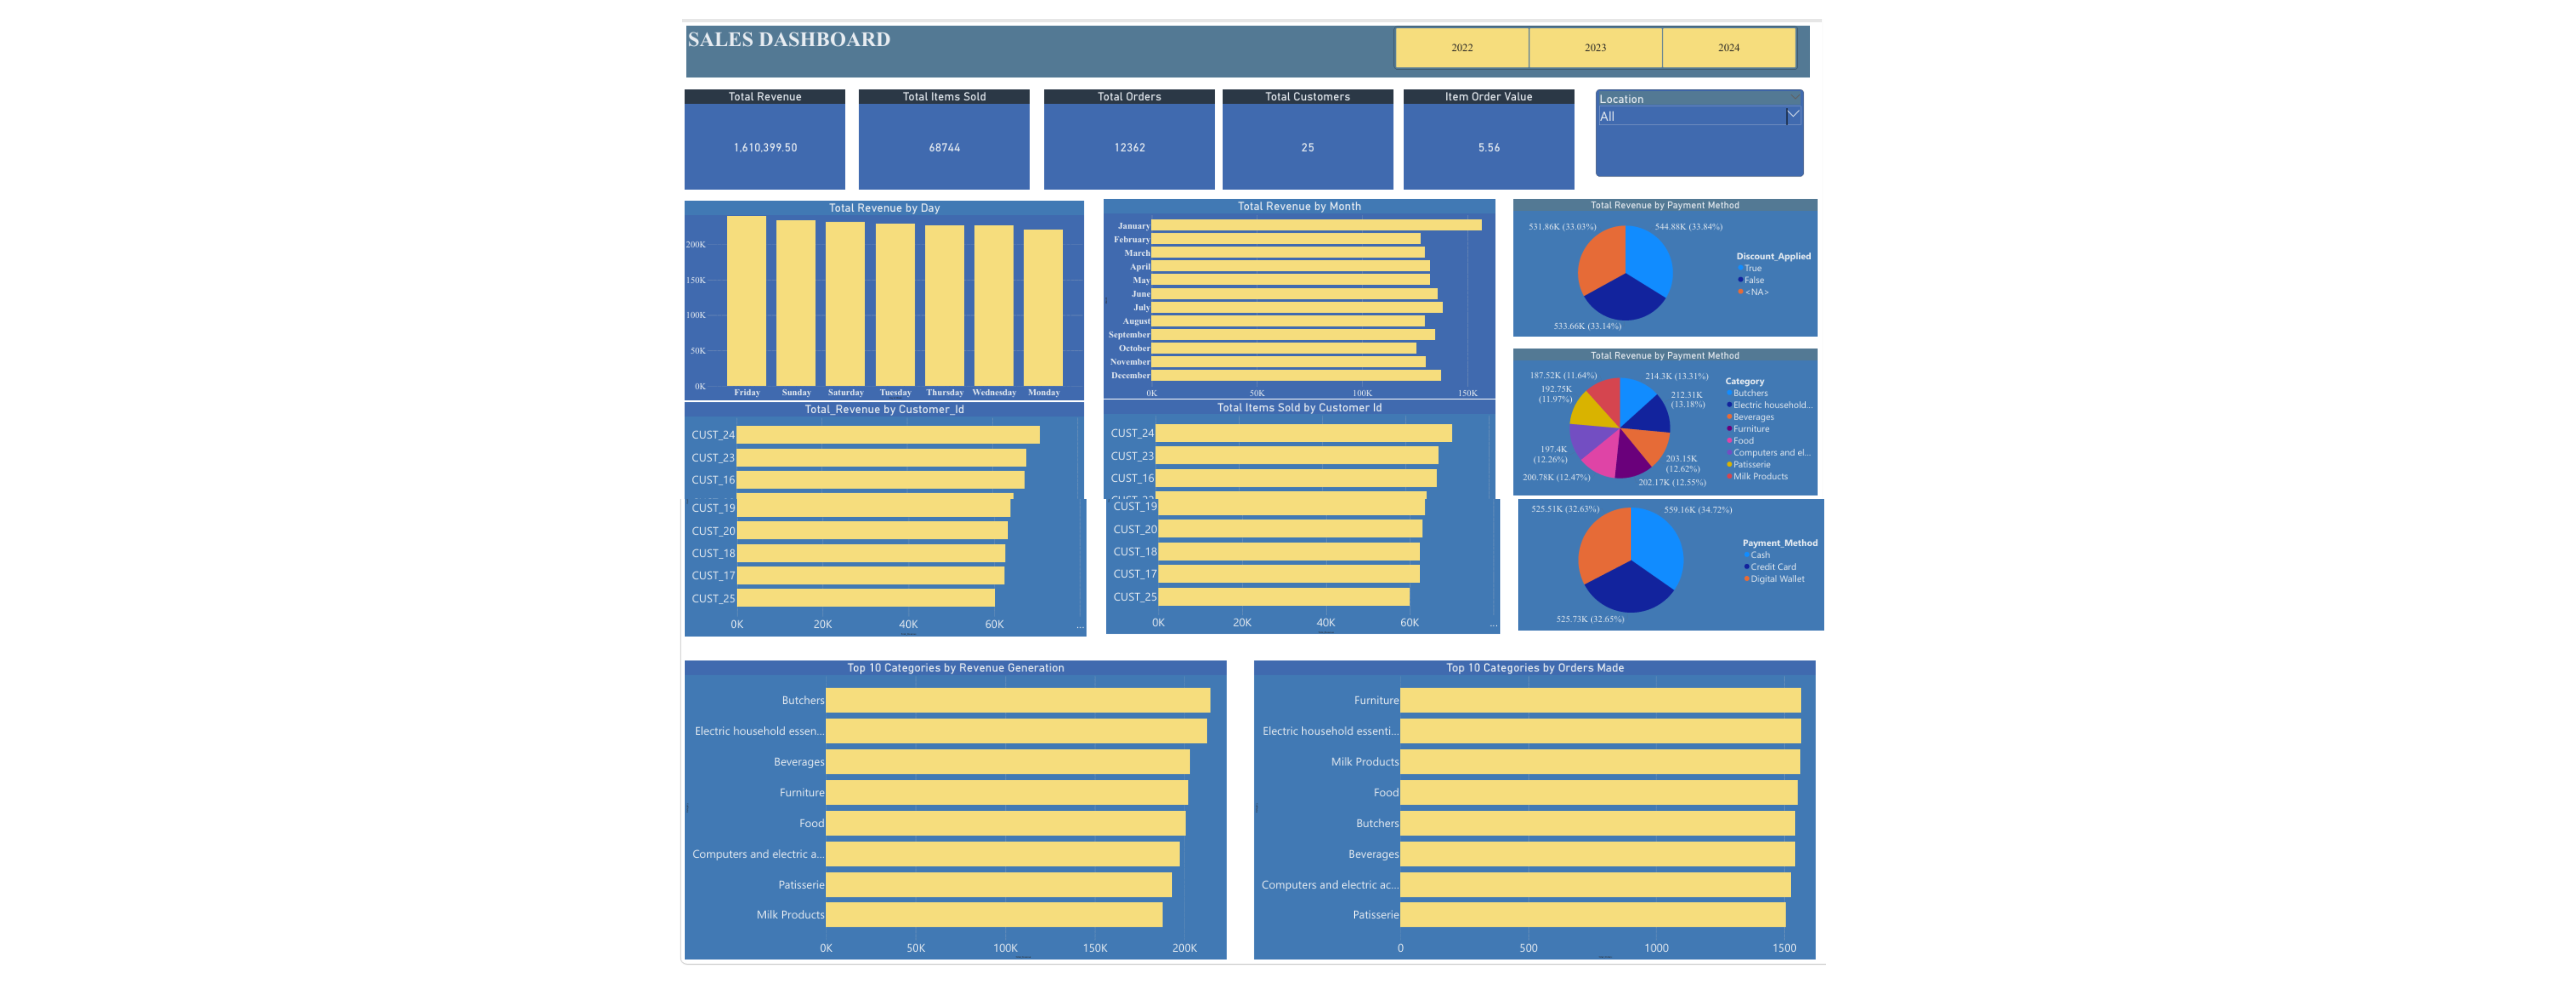

Layout of this report page (visuals, bound fields, positions):
{"tool":"powerbi","page":{"name":"Page 1","canvas":[7000,6000],"ordinal":0},"visuals":[{"type":"textbox","box":[12.2,0,6942.9,318.4],"z":0},{"type":"card","title":"Total Revenue","fields":{"Values":["Measure_Table.Total_Revenue"]},"box":[0,391.8,991.8,618.4],"z":1},{"type":"card","title":"Total Items Sold","fields":{"Values":["Measure_Table.Total_Items_Sold"]},"box":[1077.6,391.8,1053.1,618.4],"z":2},{"type":"card","title":"Total Orders","fields":{"Values":["Measure_Table.Total_Orders"]},"box":[2222.4,391.8,1053.1,618.4],"z":3},{"type":"card","title":"Total Customers","fields":{"Values":["Measure_Table.Total_Customers"]},"box":[3324.5,391.8,1053.1,618.4],"z":4},{"type":"card","title":"Item Order Value","fields":{"Values":["Measure_Table.Items Orded Per Order"]},"box":[4444.9,391.8,1053.1,618.4],"z":5},{"type":"columnChart","title":"Total Revenue by Day","fields":{"Category":["Cleaned_Data.Day of Week"],"Y":["Measure_Table.Total_Revenue"]},"box":[0,1081.6,2469.4,1234.7],"z":6},{"type":"clusteredBarChart","title":"Total Revenue by Month","fields":{"Category":["Cleaned_Data.Month"],"Y":["Measure_Table.Total_Revenue"]},"box":[2591.8,1071.4,2418.4,1234.7],"z":7},{"type":"advancedSlicerVisual","fields":{"Values":["Cleaned_Data.YearNum"]},"box":[4383.7,0,2498,269.4],"z":8},{"type":"pieChart","title":"Total Revenue by Payment Method","fields":{"Category":["Cleaned_Data.Payment_Method"],"Y":["Measure_Table.Total_Revenue"]},"box":[5122.4,3040.8,1877.6,938.8],"z":9},{"type":"pieChart","title":"Total Revenue by Payment Method","fields":{"Category":["Cleaned_Data.Category"],"Y":["Measure_Table.Total_Revenue"]},"box":[5122.4,2000,1877.6,908.2],"z":10},{"type":"pieChart","title":"Total Revenue by Payment Method","fields":{"Category":["Cleaned_Data.Discount_Applied"],"Y":["Measure_Table.Total_Revenue"]},"box":[5122.4,1071.4,1877.6,846.9],"z":11},{"type":"clusteredBarChart","fields":{"Category":["Cleaned_Data.Customer_Id"],"Y":["Measure_Table.Total_Revenue"]},"box":[0,2326.5,2469.4,1683.7],"z":12},{"type":"clusteredBarChart","title":"Total Items Sold by Customer Id","fields":{"Category":["Cleaned_Data.Customer_Id"],"Y":["Measure_Table.Total_Revenue"]},"box":[2591.8,2316.3,2418.4,1683.7],"z":13},{"type":"clusteredBarChart","title":"Top 10 Categories by Revenue Generation","fields":{"Category":["Cleaned_Data.Category"],"Y":["Measure_Table.Total_Revenue"]},"box":[0,4163.3,3330.6,1836.7],"z":14},{"type":"clusteredBarChart","title":"Top 10 Categories by Orders Made","fields":{"Category":["Cleaned_Data.Category"],"Y":["Measure_Table.Total_Orders"]},"box":[3502,4163.3,3453.1,1836.7],"z":15},{"type":"slicer","fields":{"Values":["Cleaned_Data.Location"]},"box":[5632.7,391.8,1285.7,538.8],"z":16}]}

Visuals, with their boxes in screenshot pixels (x1, y1, x2, y2):
textbox: x1=673, y1=20, x2=1814, y2=72
"Total Revenue" card: x1=671, y1=84, x2=834, y2=186
"Total Items Sold" card: x1=848, y1=84, x2=1021, y2=186
"Total Orders" card: x1=1036, y1=84, x2=1209, y2=186
"Total Customers" card: x1=1217, y1=84, x2=1390, y2=186
"Item Order Value" card: x1=1401, y1=84, x2=1574, y2=186
"Total Revenue by Day" columnChart: x1=671, y1=198, x2=1076, y2=400
"Total Revenue by Month" clusteredBarChart: x1=1097, y1=196, x2=1494, y2=399
advancedSlicerVisual - Cleaned_Data.YearNum: x1=1391, y1=20, x2=1801, y2=64
"Total Revenue by Payment Method" pieChart: x1=1512, y1=520, x2=1821, y2=674
"Total Revenue by Payment Method" pieChart: x1=1512, y1=349, x2=1821, y2=498
"Total Revenue by Payment Method" pieChart: x1=1512, y1=196, x2=1821, y2=335
clusteredBarChart - Cleaned_Data.Customer_Id x Measure_Table.Total_Revenue: x1=671, y1=402, x2=1076, y2=679
"Total Items Sold by Customer Id" clusteredBarChart: x1=1097, y1=400, x2=1494, y2=677
"Top 10 Categories by Revenue Generation" clusteredBarChart: x1=671, y1=704, x2=1218, y2=998
"Top 10 Categories by Orders Made" clusteredBarChart: x1=1246, y1=704, x2=1814, y2=998
slicer - Cleaned_Data.Location: x1=1596, y1=84, x2=1807, y2=173
